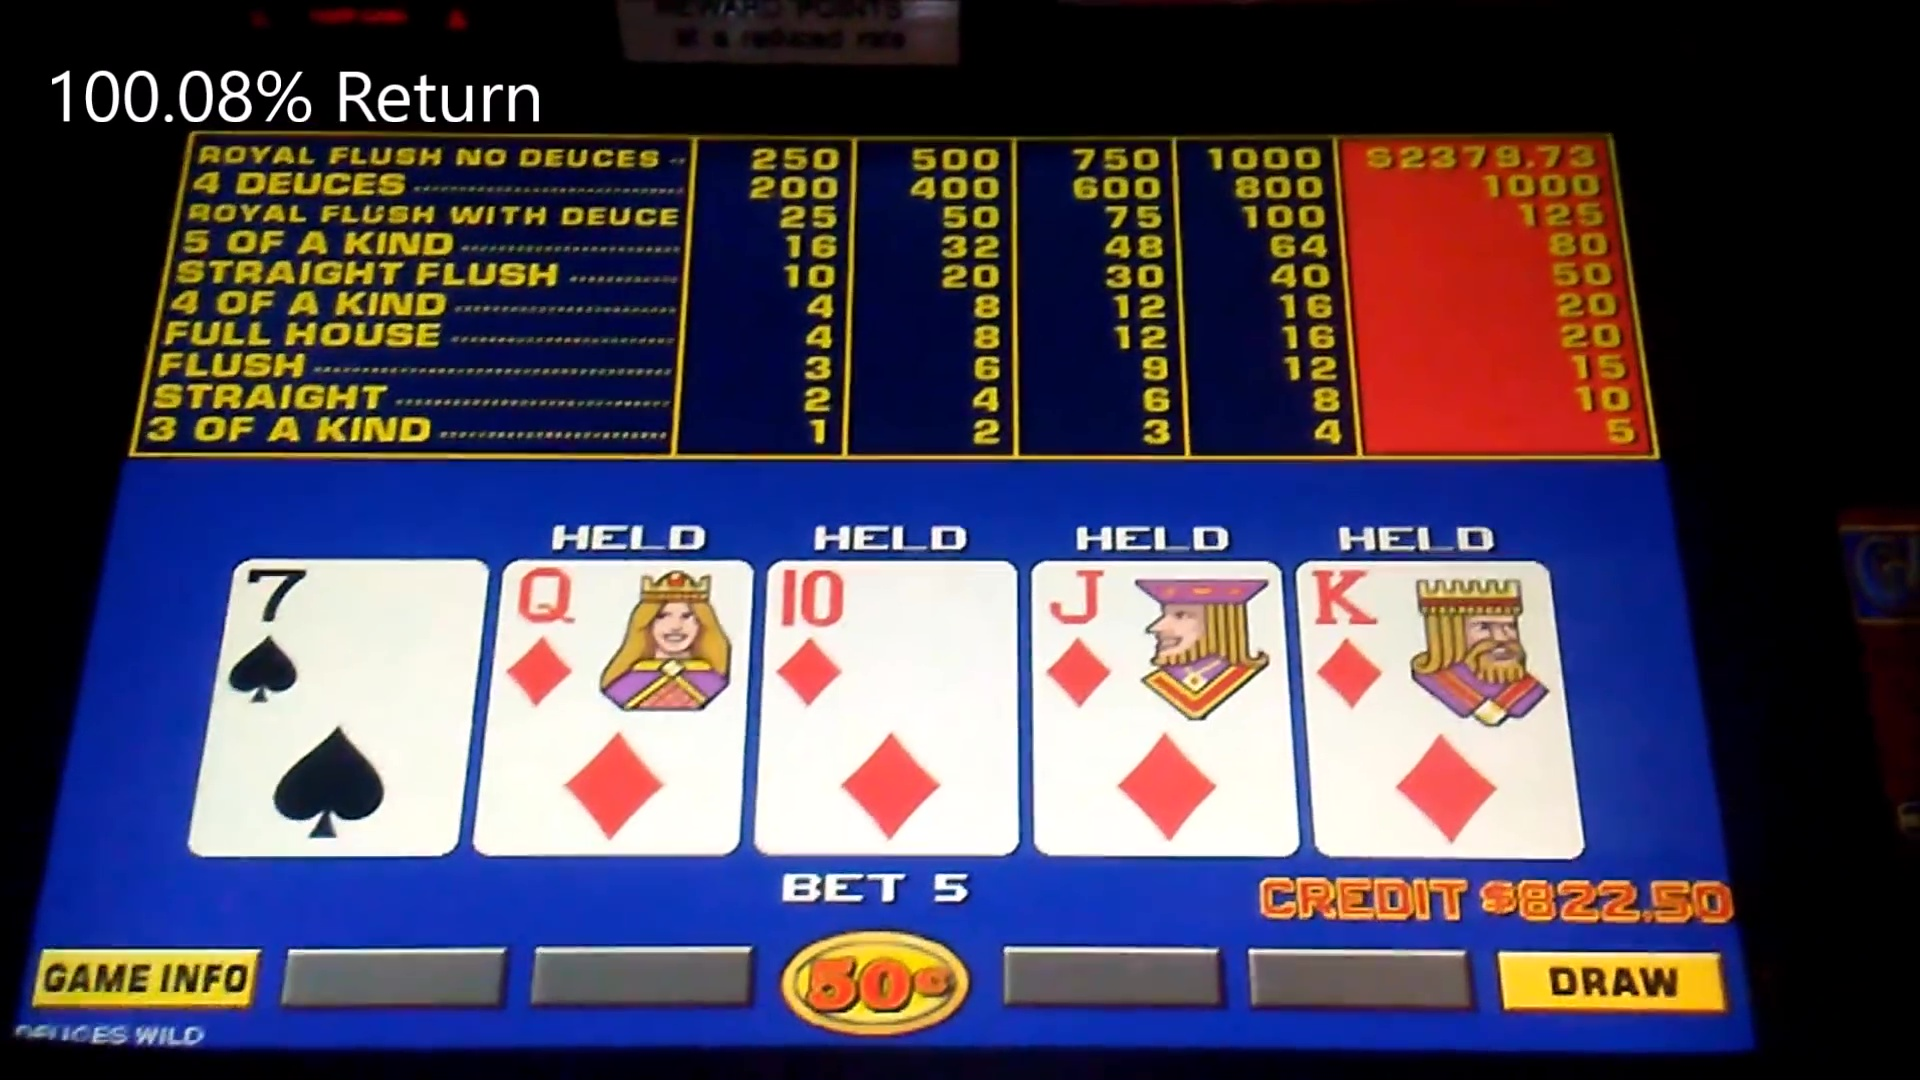7C: (232, 560, 473, 711)
JD: (1030, 563, 1280, 721)
KD: (1308, 566, 1545, 727)
QD: (505, 562, 746, 727)
TD: (764, 562, 1018, 724)
